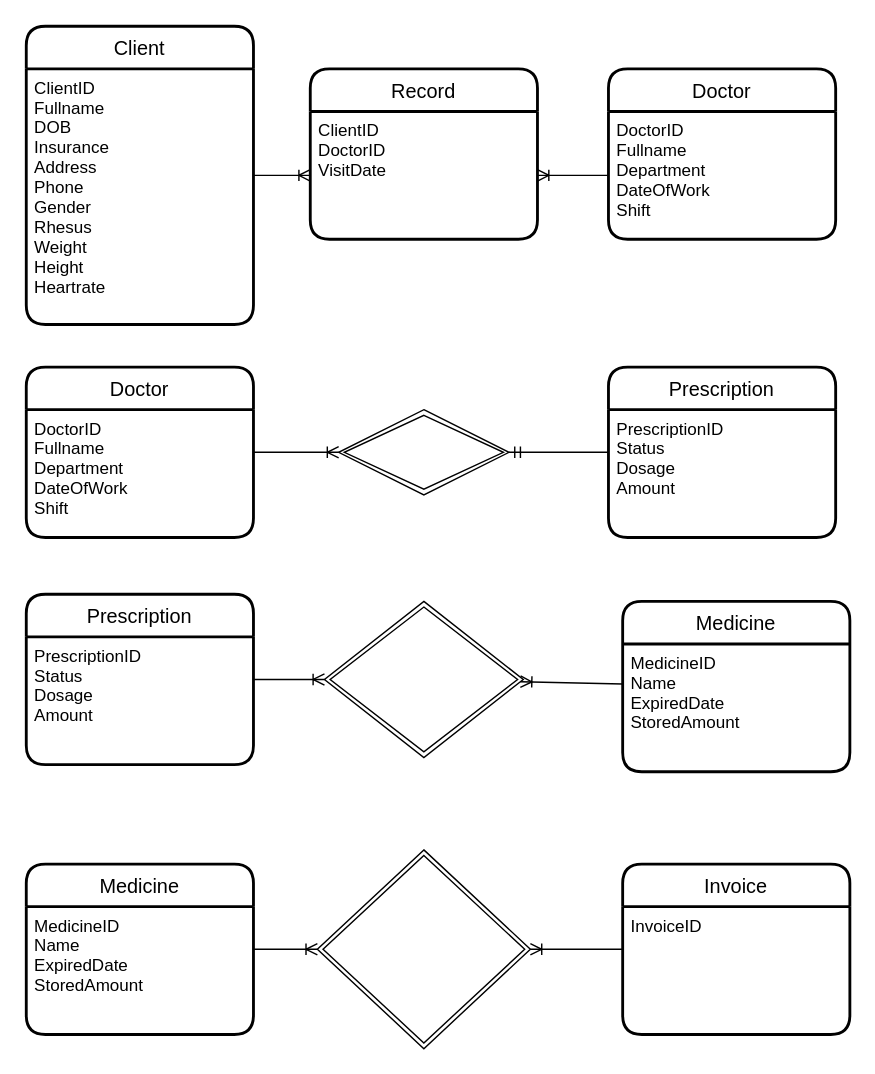
The diagram is 875 pixels wide and 1074 high, and some of its shapes have lost their labels. Here are the shapes that lost their labels. From the top down, the centre of each, then its label:
At point 423,451: "Has".
At point 423,679: "Belong PrescriptionID MedicineID Date".
At point 423,948: "Belong1 PrescriptionID MedicineID Date".
